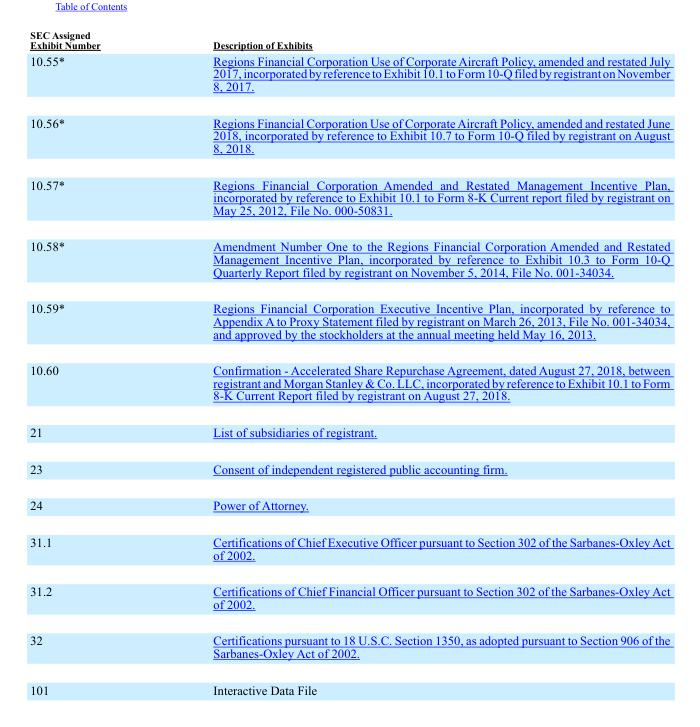table: (29, 28, 669, 696)
table column: (156, 28, 669, 696), (29, 28, 156, 696)
table column header: (29, 28, 669, 51)
table row: (29, 165, 669, 227), (29, 227, 669, 289), (29, 289, 669, 351), (29, 351, 669, 413), (29, 104, 669, 165), (29, 51, 669, 104), (29, 621, 669, 671), (29, 523, 669, 572), (29, 572, 669, 621), (29, 413, 669, 450), (29, 486, 669, 523), (29, 450, 669, 486), (29, 671, 669, 696), (29, 28, 669, 51)
